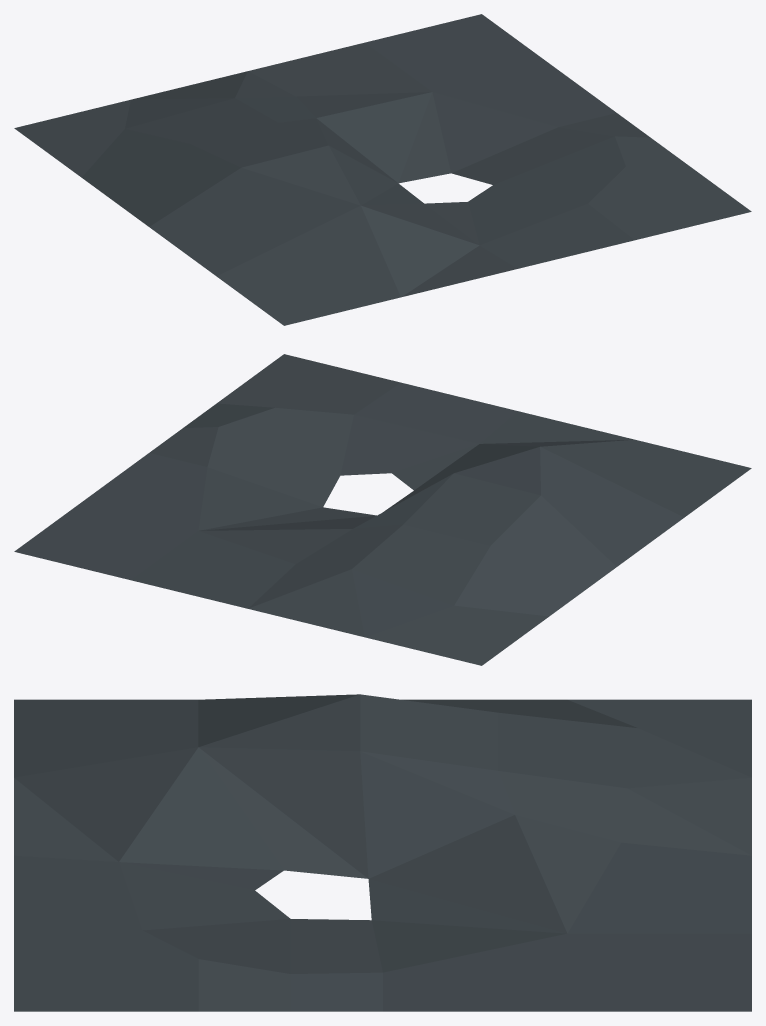
File: FloorHole08.fbx
The picture shows the model from 3 angles, top to bottom: view 1: azimuth 30°, elevation 25°; view 2: azimuth 150°, elevation 25°; view 3: azimuth 270°, elevation 25°; orthographic projection. The views are drawn at different scales.
Visible parts, largest first — view 1: FloorHole08; view 2: FloorHole08; view 3: FloorHole08.
Part boxes in pixels (<box>): FloorHole08: <box>14,14,751,325</box>; FloorHole08: <box>14,354,751,665</box>; FloorHole08: <box>14,694,751,1011</box>.
Bounding box in the file's own units: 2032 × 257 × 2032.
